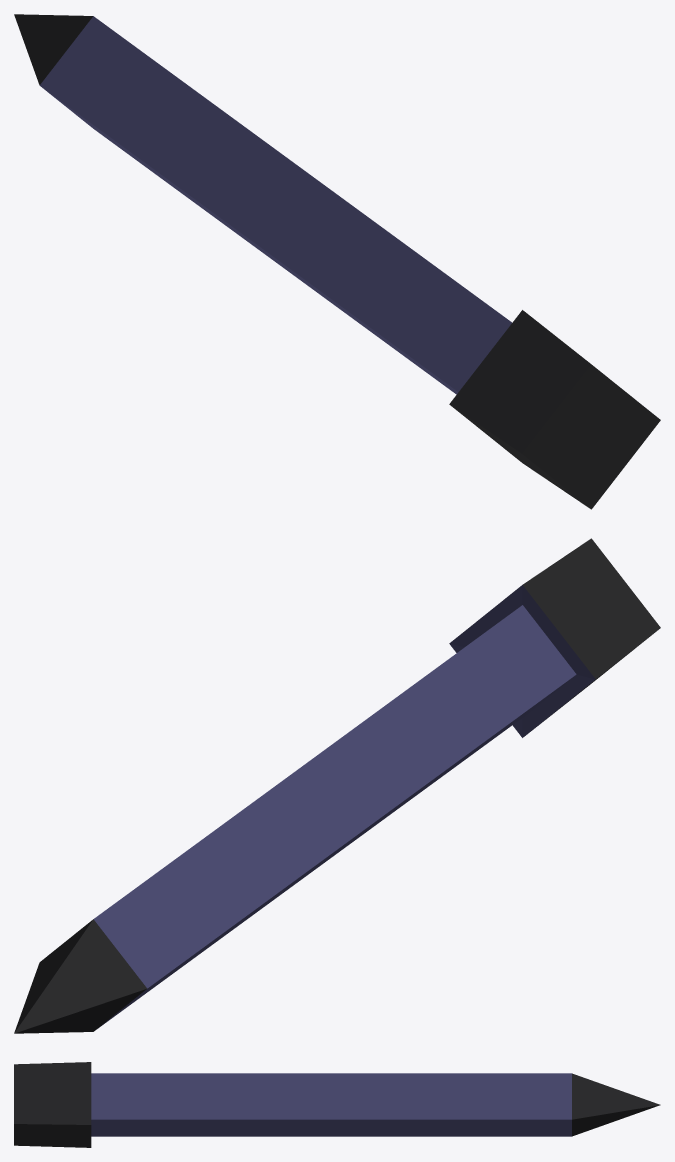
File: Office_Pen.glb
The picture shows the model from 3 angles, top to bottom: view 1: azimuth 30°, elevation 25°; view 2: azimuth 150°, elevation 25°; view 3: azimuth 270°, elevation 25°; orthographic projection. The views are drawn at different scales.
Parts seen in each view (by area): view 1: Cylinder; view 2: Cylinder; view 3: Cylinder.
Part boxes in pixels (<box>): Cylinder: <box>14,14,660,509</box>; Cylinder: <box>14,538,660,1033</box>; Cylinder: <box>14,1062,660,1147</box>.
Size of the model in its own units: 0.0379 by 0.0379 by 0.2585.
